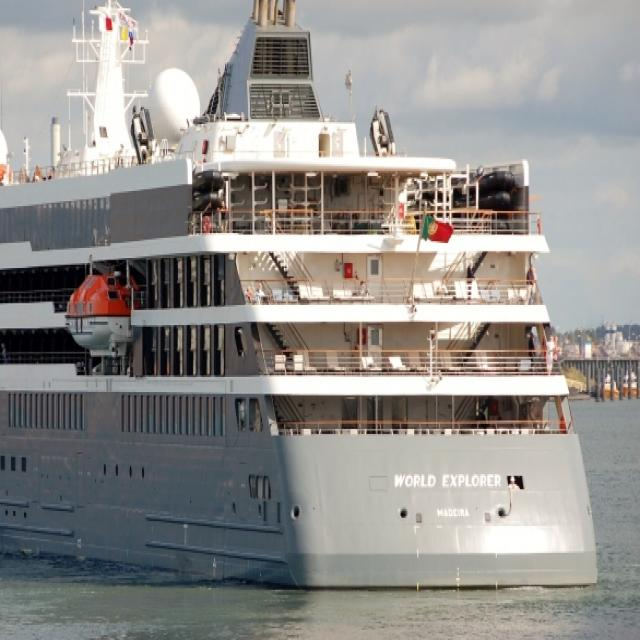cruises: (1, 1, 620, 604)
